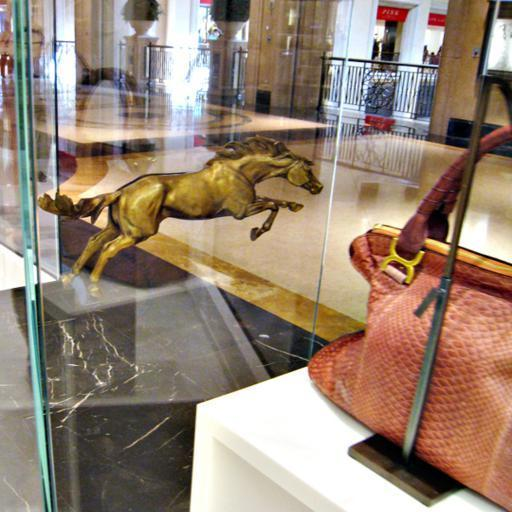horse: (34, 134, 324, 300)
